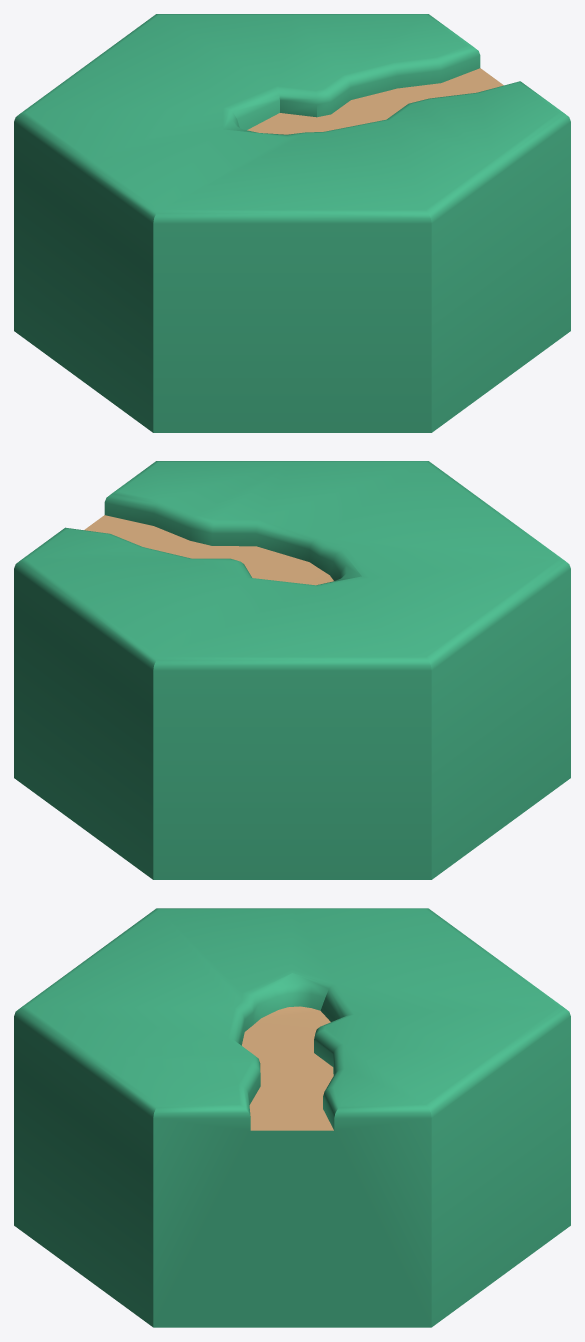
The model's file is kaykit-hex-forest-roada.glb.
3 renders of one model, top to bottom at view 1: azimuth 30°, elevation 25°; view 2: azimuth 150°, elevation 25°; view 3: azimuth 270°, elevation 25°, orthographic.
Visible parts, largest first — view 1: hex_forest_roadA; view 2: hex_forest_roadA; view 3: hex_forest_roadA.
Part boxes in pixels (x1,y1,x2,y2): hex_forest_roadA: [14, 14, 570, 432]; hex_forest_roadA: [14, 461, 570, 879]; hex_forest_roadA: [14, 908, 570, 1327].
Bounding box in the file's own units: 2 × 1 × 2.31.
